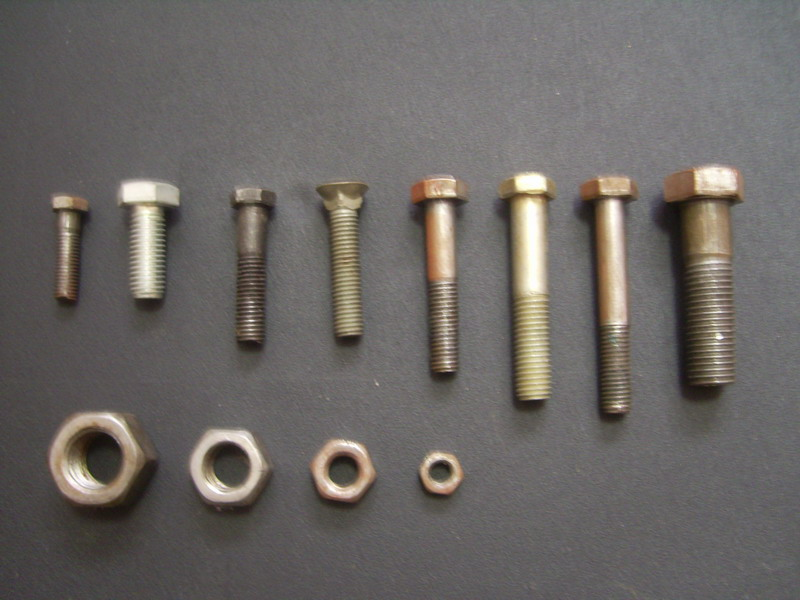screw: (663, 165, 743, 386), (581, 177, 639, 414), (501, 173, 554, 402), (413, 175, 467, 376), (116, 178, 179, 301), (230, 186, 273, 345), (51, 193, 90, 305)
